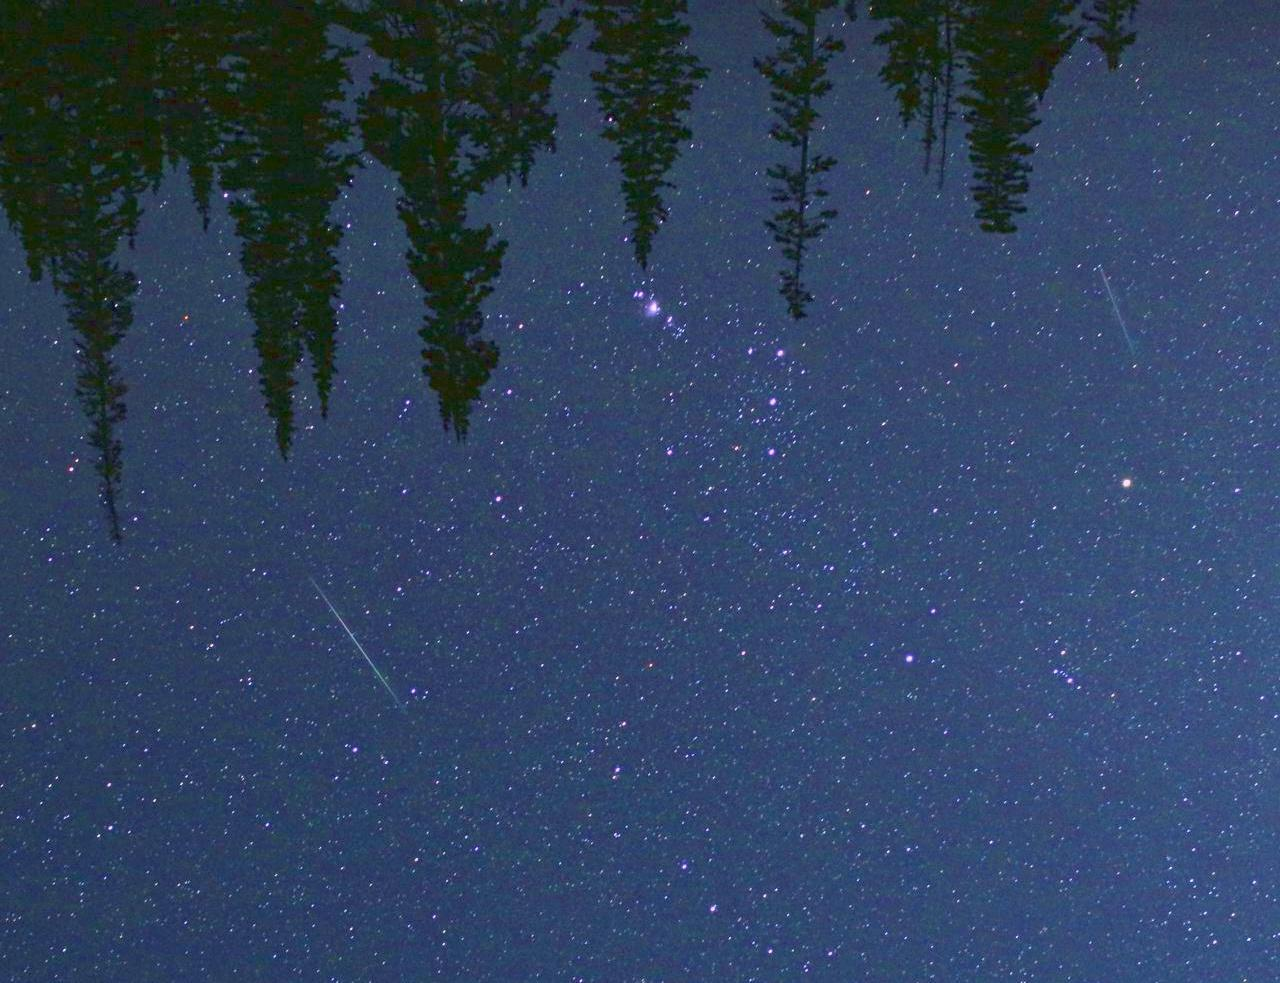meteorite: (286, 579, 435, 712), (1076, 258, 1169, 368)
